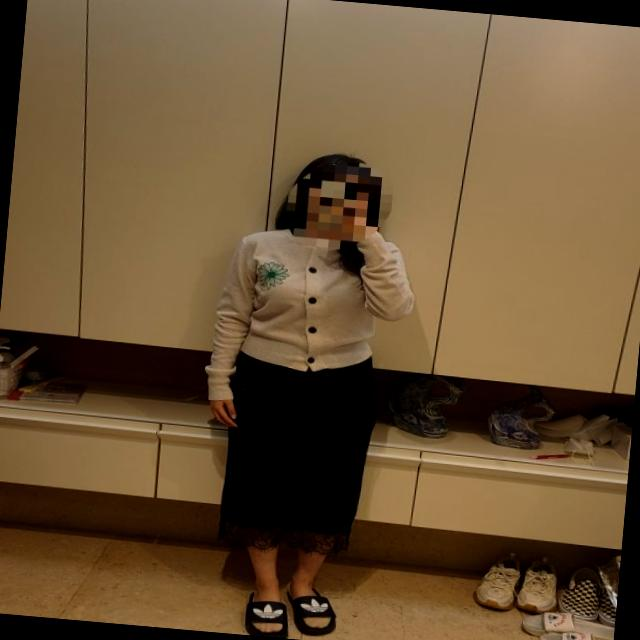cardigan: (200, 219, 424, 419)
skirt: (208, 346, 380, 560)
